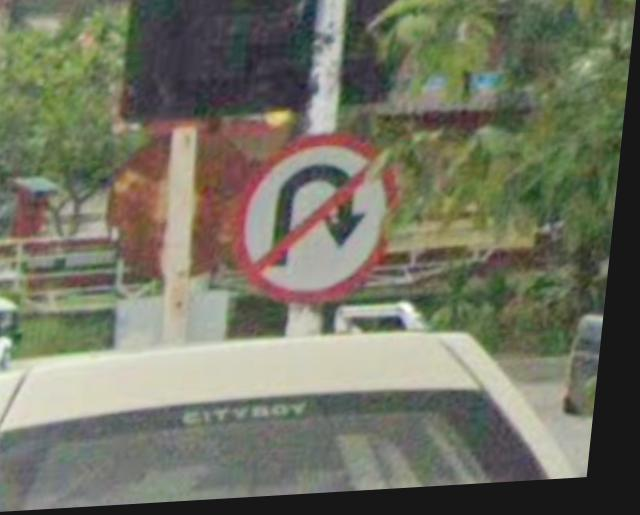not_u_turn_right: (213, 123, 420, 323)
